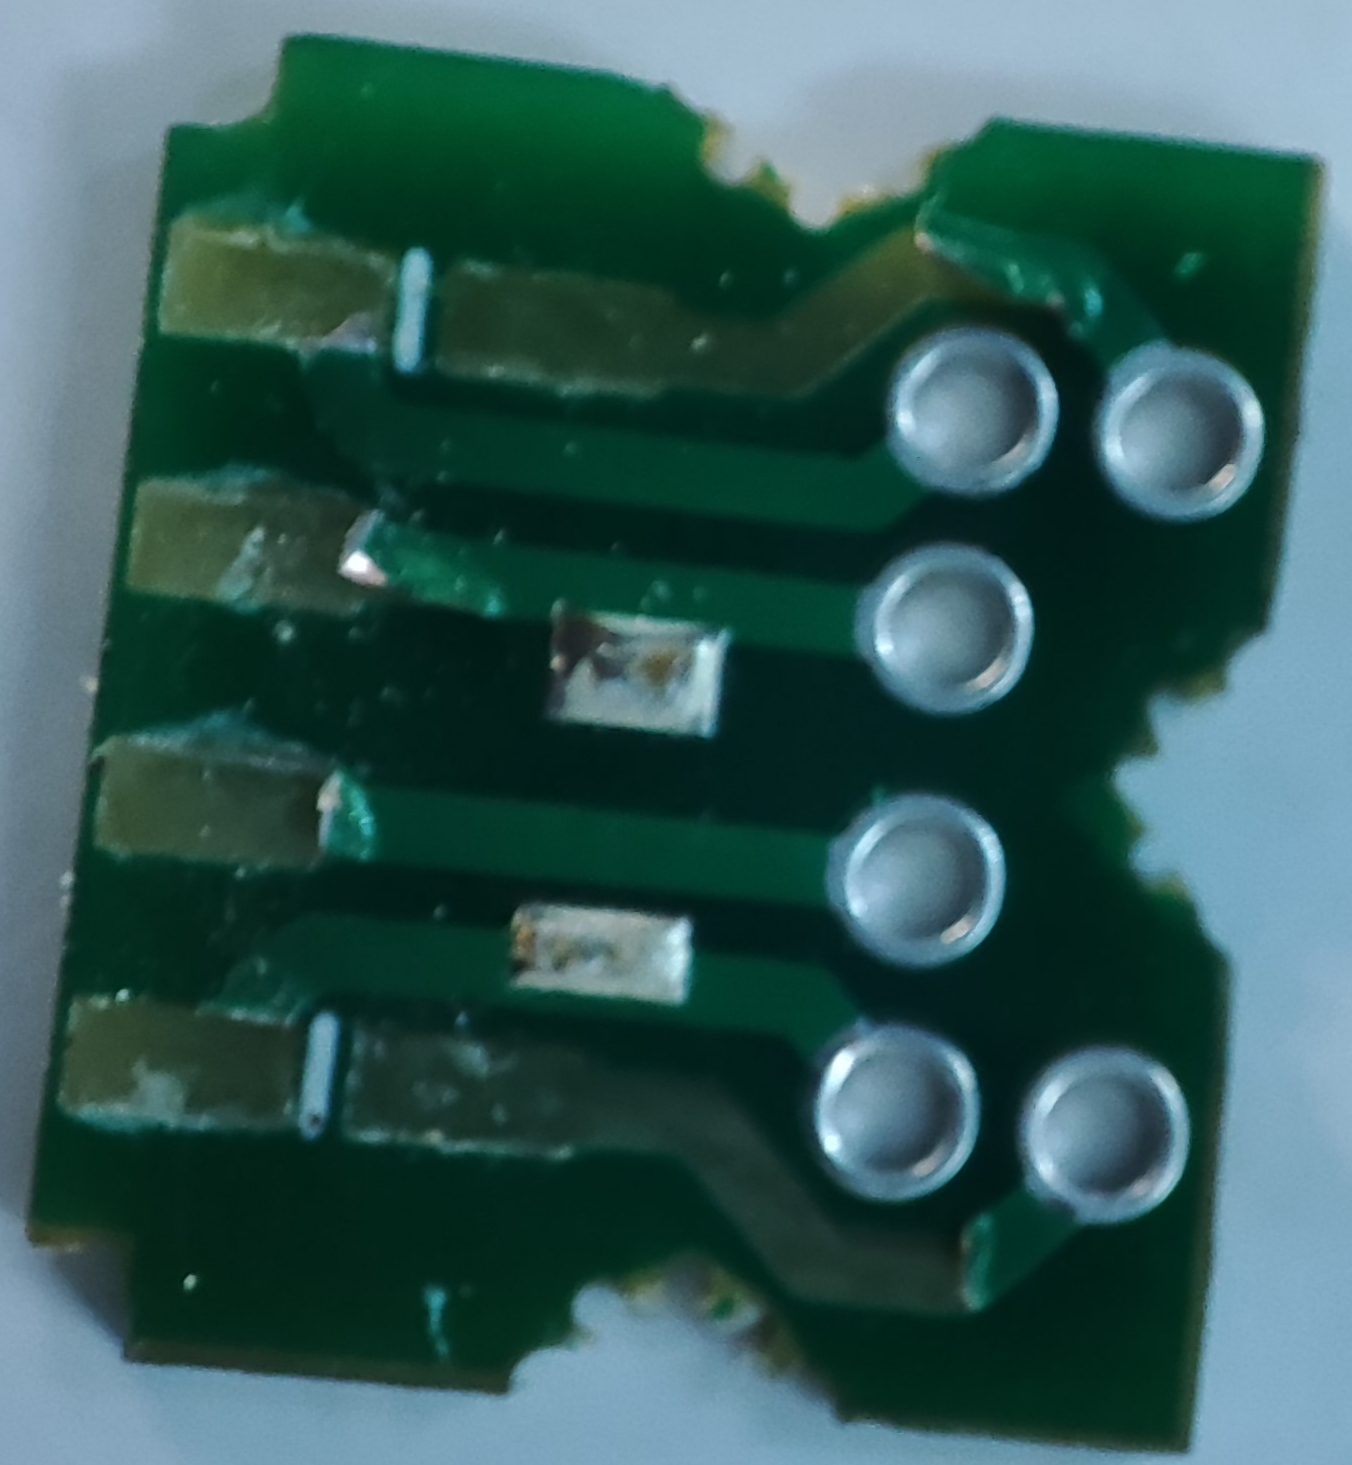PCB-MODEL-0: (49, 11, 1341, 1465)
defected-spring_finger: (112, 449, 448, 664), (88, 692, 406, 896), (49, 974, 340, 1177), (143, 194, 414, 403), (346, 986, 626, 1178), (440, 232, 701, 416)
normal-through: (800, 755, 1057, 983), (1006, 1016, 1238, 1226), (779, 1012, 1000, 1220), (848, 530, 1061, 725), (875, 299, 1072, 503), (1100, 318, 1279, 524)
